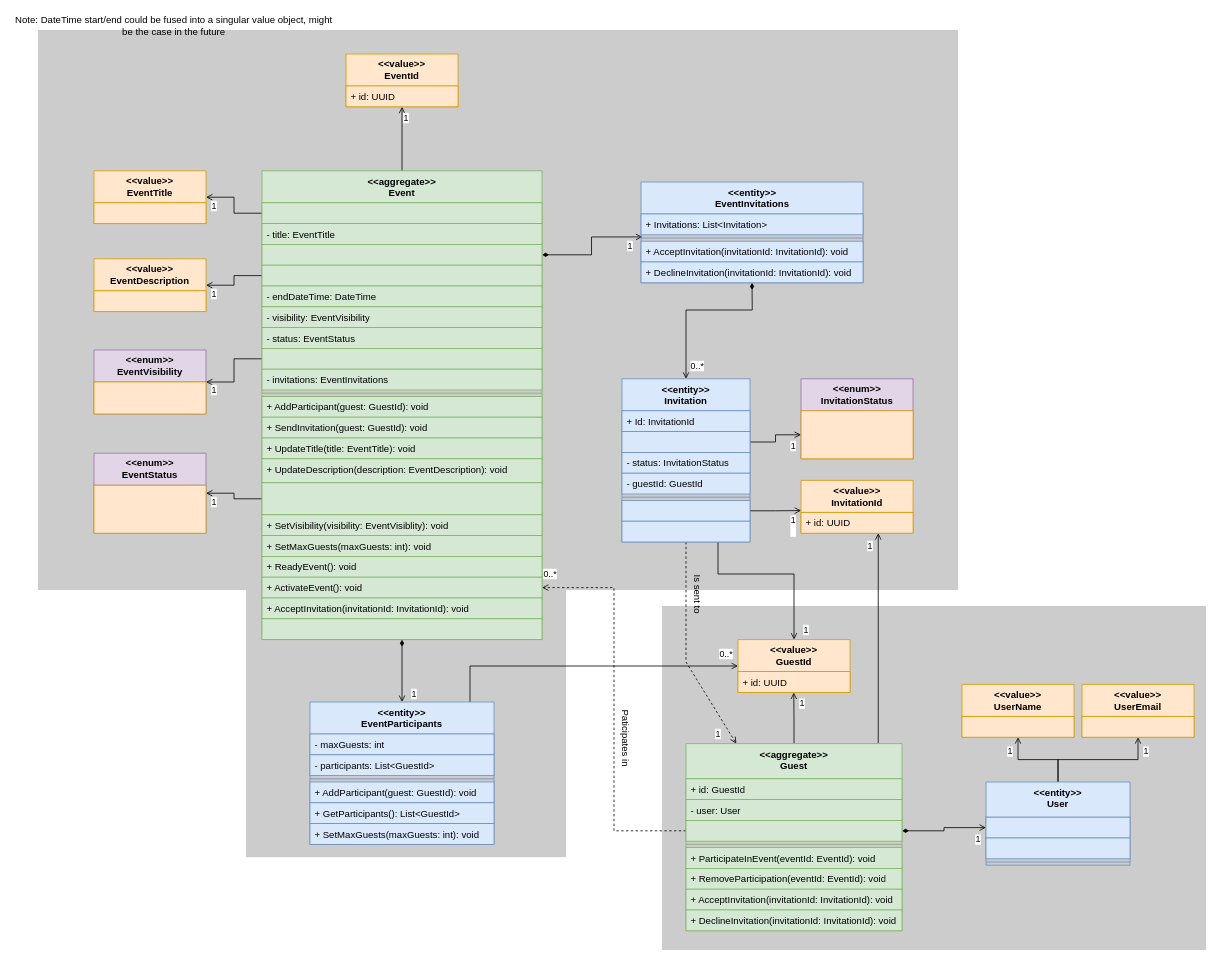
Some shapes in this 1219 by 963 pixel diagram are drawn without their labels. The centre of each missing label's shape, as x and y in pixels:
+ AcceptInvitation(): void: the point at 685,510
+ DeclineInvitation(): void: the point at 685,531
+ DeclineInvitation(invitaitonId: InvitationId): void: the point at 401,629
+ description: string: the point at 149,301
+ Email: string: the point at 1137,726
+ Id: EventId: the point at 401,213
+ Name: string: the point at 1017,726
+ title: string: the point at 149,213
+ UpdateTime(startDateTime: DateTime, endDateTime: DateTime): void: the point at 401,498
- description: EventDescription: the point at 401,254
- email: UserEmail: the point at 1057,848
- eventId: EventId: the point at 685,441
- eventsParticipated: List<EventId>: the point at 793,830
- name: UserName: the point at 1057,827
- participants: EventParticipants: the point at 401,358
- startDateTime: DateTime: the point at 401,275
CREATED READY ACTIVE: the point at 149,508
PENDING ACCEPTED DECLINED: the point at 856,434
PUBLIC PRIVATE: the point at 149,397
